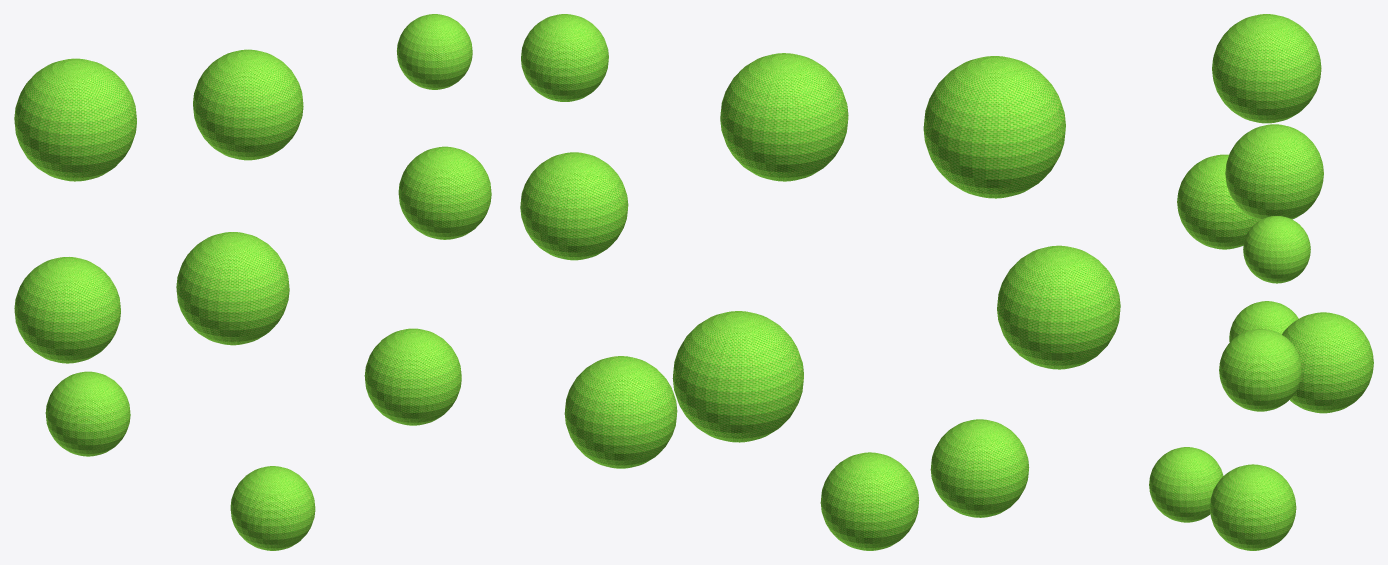
The model's file is fire1.obj.
3 renders of one model, left to right at view 1: azimuth 30°, elevation 25°; view 2: azimuth 150°, elevation 25°; view 3: azimuth 270°, elevation 25°, orthographic. The views are drawn at different scales.
Visible parts, largest first — view 1: Sphere.008, Sphere.001, Sphere.007, Sphere.005, Sphere.003, Sphere.006, Sphere.002, Sphere, Sphere.004; view 2: Sphere.008, Sphere.001, Sphere.007, Sphere.005, Sphere.003, Sphere.006, Sphere.002, Sphere, Sphere.004; view 3: Sphere.008, Sphere.007, Sphere.001, Sphere.003, Sphere.006, Sphere.005, Sphere, Sphere.004, Sphere.002.
Boxes of the visible parts, x1,y1,x2,y2 form: Sphere.008: [14, 58, 136, 181]; Sphere.001: [176, 232, 289, 345]; Sphere.007: [193, 49, 303, 160]; Sphere.005: [14, 257, 120, 363]; Sphere.003: [364, 328, 461, 425]; Sphere.006: [398, 146, 491, 239]; Sphere.002: [45, 371, 130, 456]; Sphere: [230, 466, 315, 550]; Sphere.004: [397, 14, 472, 89]; Sphere.008: [923, 56, 1065, 198]; Sphere.001: [672, 311, 803, 442]; Sphere.007: [720, 53, 848, 181]; Sphere.005: [997, 245, 1120, 369]; Sphere.003: [564, 356, 677, 468]; Sphere.006: [520, 152, 628, 260]; Sphere.002: [930, 419, 1029, 517]; Sphere: [820, 452, 919, 550]; Sphere.004: [521, 14, 608, 101]; Sphere.008: [1212, 14, 1321, 123]; Sphere.007: [1225, 124, 1323, 220]; Sphere.001: [1282, 312, 1373, 413]; Sphere.003: [1209, 464, 1296, 550]; Sphere.006: [1219, 328, 1301, 411]; Sphere.005: [1177, 154, 1259, 249]; Sphere: [1149, 447, 1223, 522]; Sphere.004: [1243, 216, 1310, 283]; Sphere.002: [1229, 301, 1298, 342].
Bounding box in the file's own units: 1.7 × 1.63 × 0.7669.
1 material, 1 textured.
